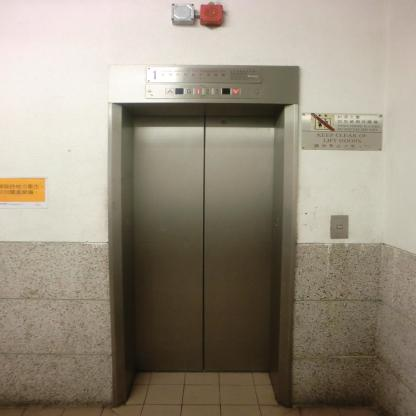1: (193, 88, 202, 94)
2: (203, 88, 212, 94)
3: (212, 87, 222, 94)
G: (184, 88, 194, 94)
down: (231, 88, 240, 94)
empty: (174, 88, 184, 94), (221, 88, 230, 94)
up: (165, 88, 175, 94), (336, 224, 342, 229)
